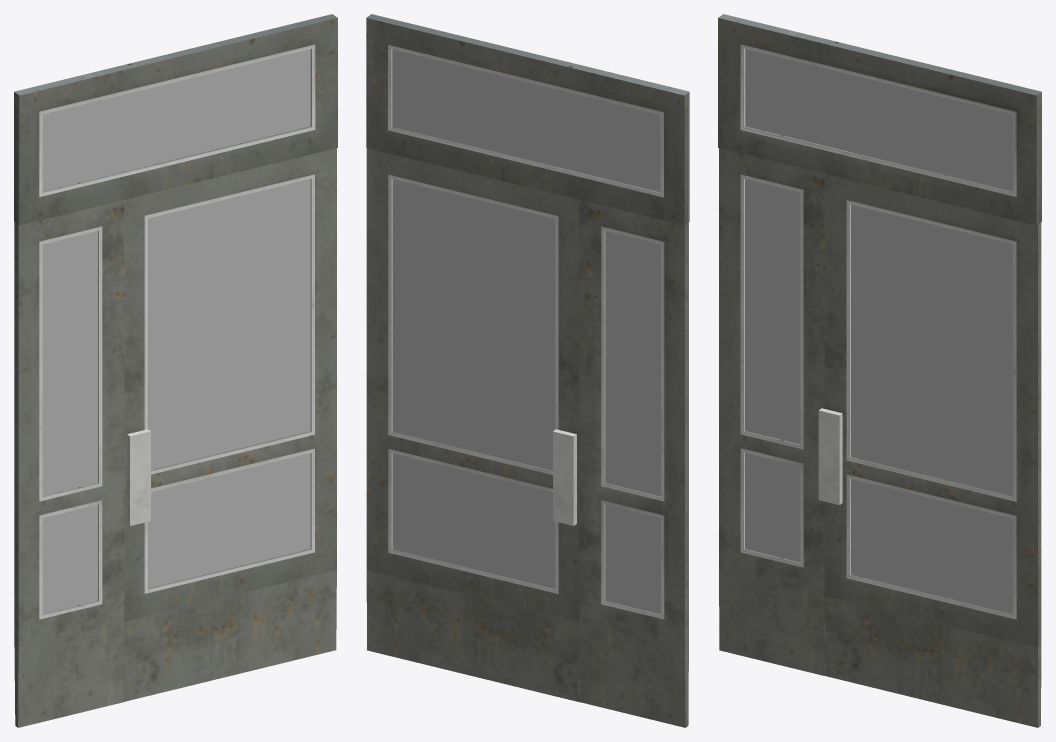
File: bil_door2o.fbx
3 views of the same model, side by side, from view 1: azimuth 30°, elevation 25°; view 2: azimuth 150°, elevation 25°; view 3: azimuth 330°, elevation 25° (orthographic).
Parts seen in each view (by area): view 1: bil_door2o_a, bil_door2o_b, bil_door2o_c; view 2: bil_door2o_a, bil_door2o_b, bil_door2o_c; view 3: bil_door2o_a, bil_door2o_b, bil_door2o_c.
Part boxes in pixels (<box>): bil_door2o_a: <box>123,148,336,701</box>; bil_door2o_b: <box>14,200,124,727</box>; bil_door2o_c: <box>14,14,337,225</box>; bil_door2o_a: <box>366,148,579,702</box>; bil_door2o_b: <box>579,200,688,727</box>; bil_door2o_c: <box>366,14,689,225</box>; bil_door2o_a: <box>818,174,1041,727</box>; bil_door2o_b: <box>719,148,825,675</box>; bil_door2o_c: <box>718,14,1041,225</box>.
Bounding box in the file's own units: 144 × 274 × 12.12.
